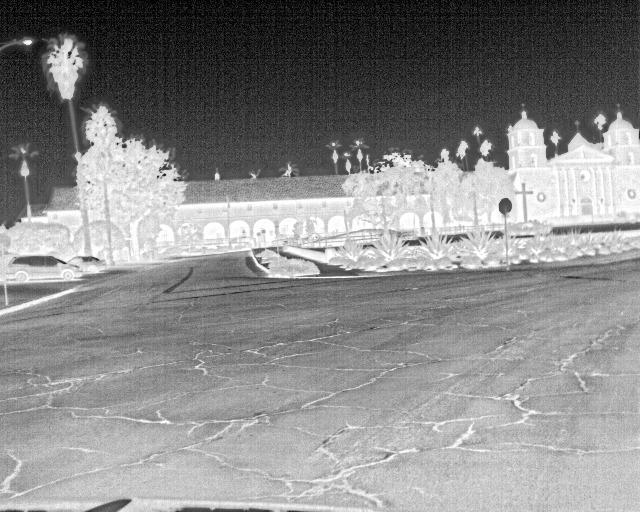car: (2, 254, 85, 282), (66, 254, 108, 277)
